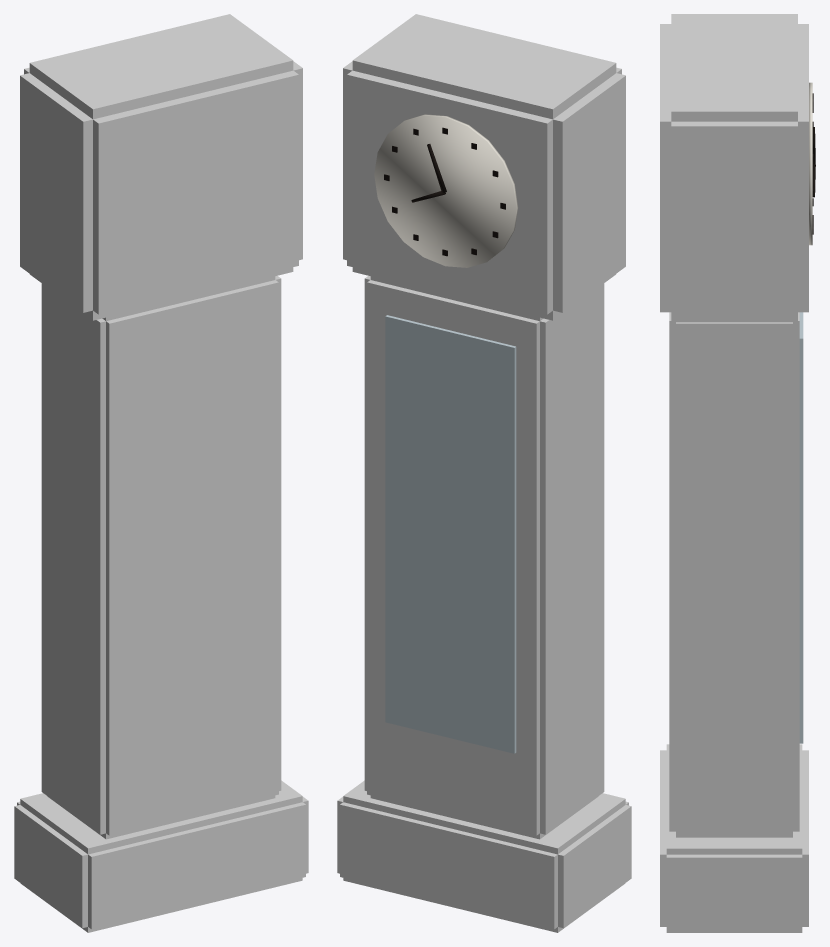
Rendered from wooden_clock_v0.glb.
The picture shows the model from 3 angles, left to right: view 1: azimuth 30°, elevation 25°; view 2: azimuth 150°, elevation 25°; view 3: azimuth 270°, elevation 25°; orthographic projection.
Visible parts, largest first — view 1: wooden_clock_v0; view 2: wooden_clock_v0; view 3: wooden_clock_v0.
Part boxes in pixels (left/top/right/bottom): wooden_clock_v0: left=14, top=14, right=308, bottom=932; wooden_clock_v0: left=337, top=14, right=631, bottom=932; wooden_clock_v0: left=660, top=14, right=815, bottom=932.
Size of the model in its own units: 0.7 by 2.42 by 0.4185.
